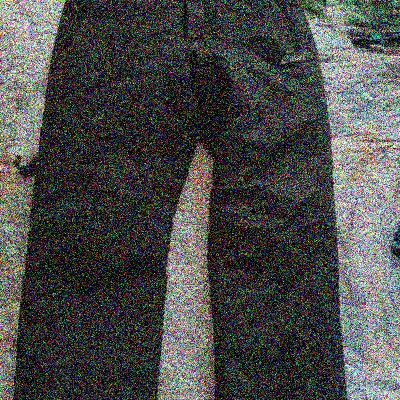Pants: (25, 5, 355, 399)
